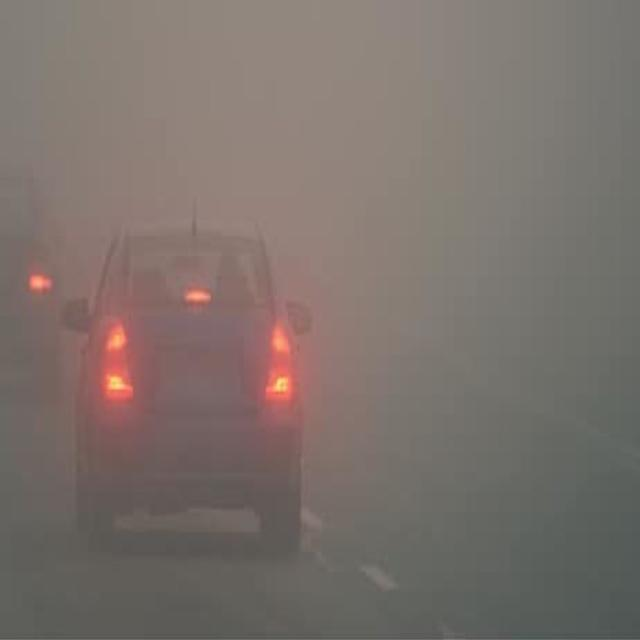car: (67, 219, 303, 525), (0, 167, 61, 391)
